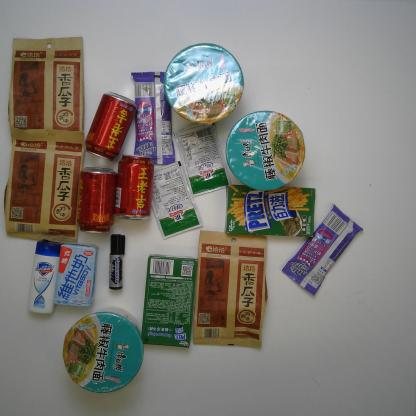Candy: (281, 203, 364, 296), (131, 71, 176, 165)
Dessert: (141, 254, 198, 348), (224, 184, 316, 238)
Dried Food: (3, 126, 86, 244), (192, 231, 268, 348), (7, 37, 85, 144)
Drink: (85, 91, 137, 162), (76, 166, 118, 234), (114, 154, 154, 221)
Instant Noodles: (62, 312, 144, 394), (163, 43, 245, 124), (226, 111, 306, 191)
Milk: (53, 242, 98, 307)
Personal Hygiene: (27, 241, 63, 314)
Seasoner: (172, 122, 232, 198), (151, 160, 204, 240)
Stationery: (108, 234, 126, 290)
